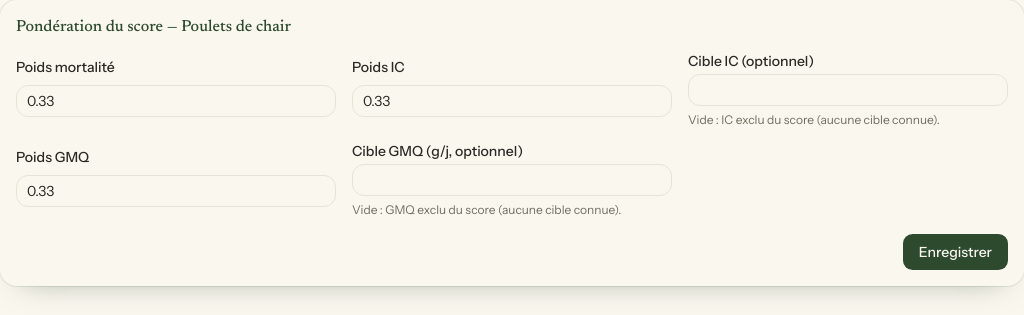
Test: BroilerPerformanceCoefficientsForm › rejette un poids non numérique (validation Zod, pas de soumission)
The width and height of the screenshot is (1024, 315).
Replace the text in the field labelled "Poids mortalité" with "abc": (176, 101) x1=16 y1=85 x2=336 y2=117
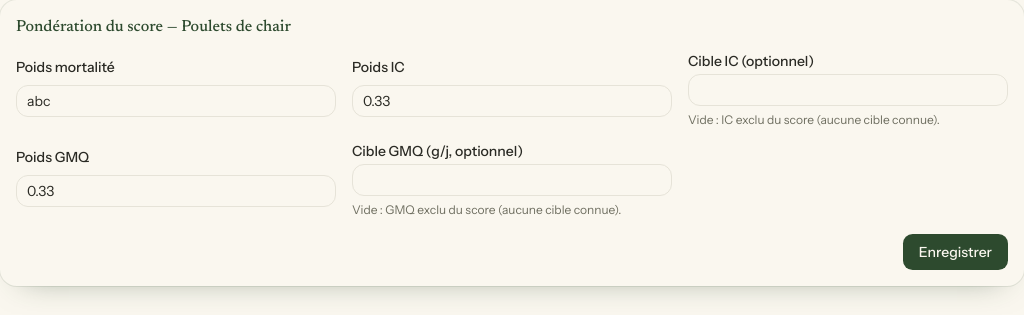
Click the button "Enregistrer": (955, 252) x1=903 y1=234 x2=1008 y2=270
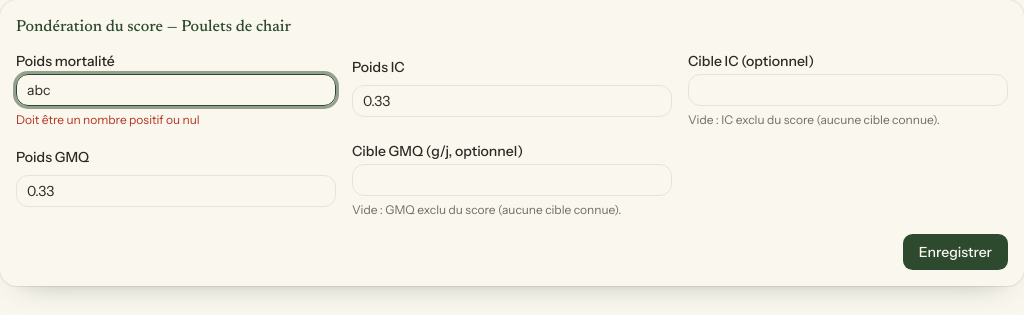
Expected: the text "Doit être un nombre positif ou nul" is shown, x1=16 y1=112 x2=200 y2=127
